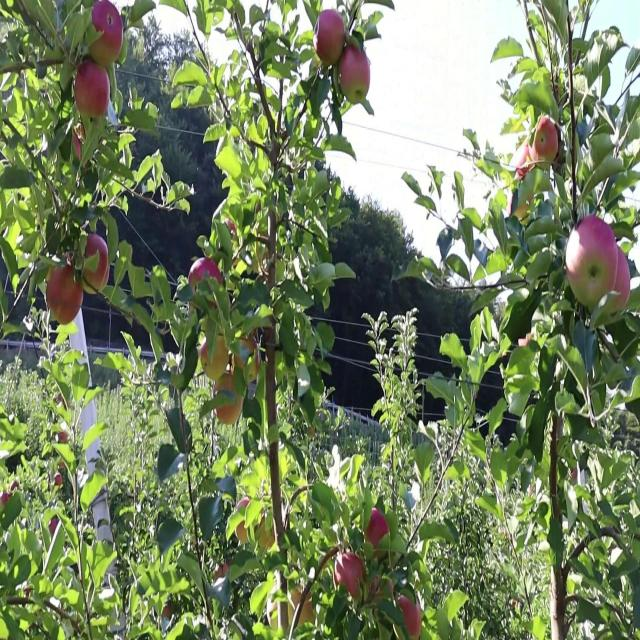apple: (564, 213, 616, 311), (72, 63, 112, 121), (48, 263, 84, 327), (336, 42, 372, 105), (92, 0, 125, 64), (316, 7, 347, 69), (188, 263, 224, 309), (84, 234, 111, 292), (608, 248, 632, 313), (200, 334, 231, 382), (216, 376, 244, 427), (336, 554, 367, 599), (536, 120, 560, 165), (236, 334, 261, 377), (364, 511, 390, 549), (400, 597, 423, 639), (356, 49, 372, 105), (516, 142, 535, 183), (72, 127, 87, 158), (228, 220, 239, 240)
